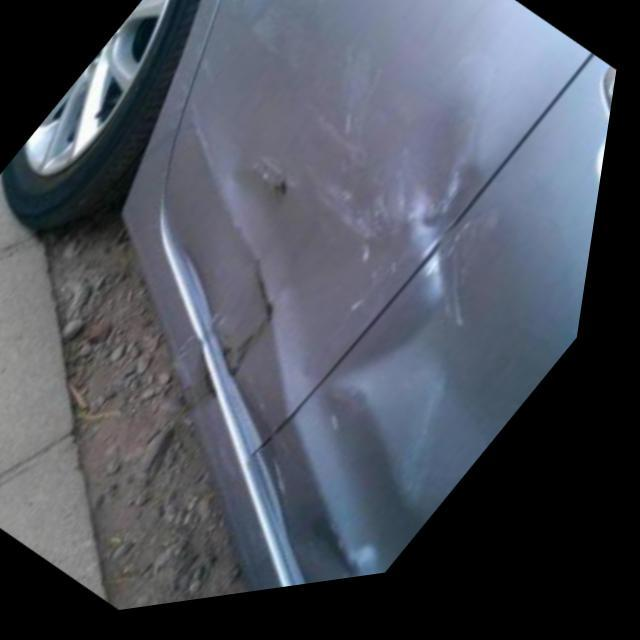crack: (218, 198, 310, 384), (259, 163, 300, 214)
dent: (363, 131, 489, 335), (344, 342, 456, 507)
scratch: (320, 506, 394, 592)
